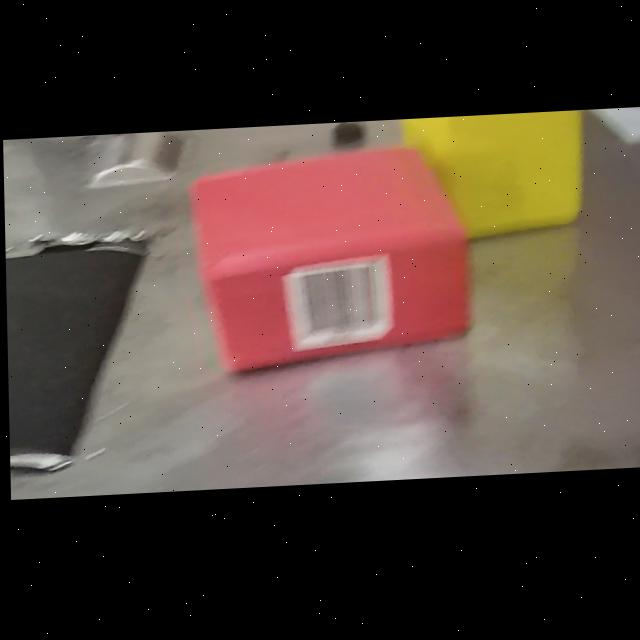redBox: (184, 146, 480, 394)
yellowBox: (400, 117, 593, 247)
